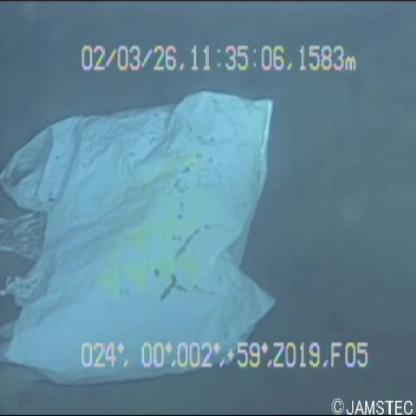Rác: (1, 76, 299, 380)
